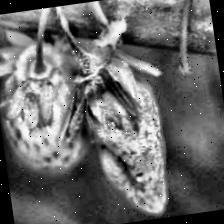Gray Mold: (52, 37, 182, 224)
